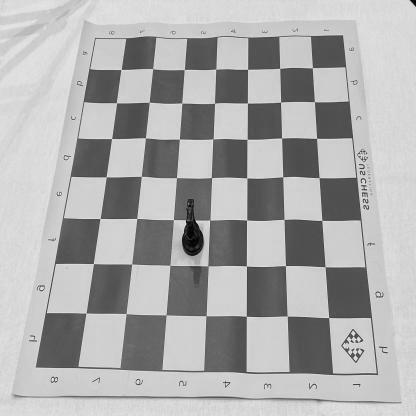black-knight: (181, 198, 205, 256)
